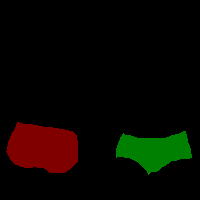mutande: (6, 121, 78, 173), (115, 130, 192, 175)
